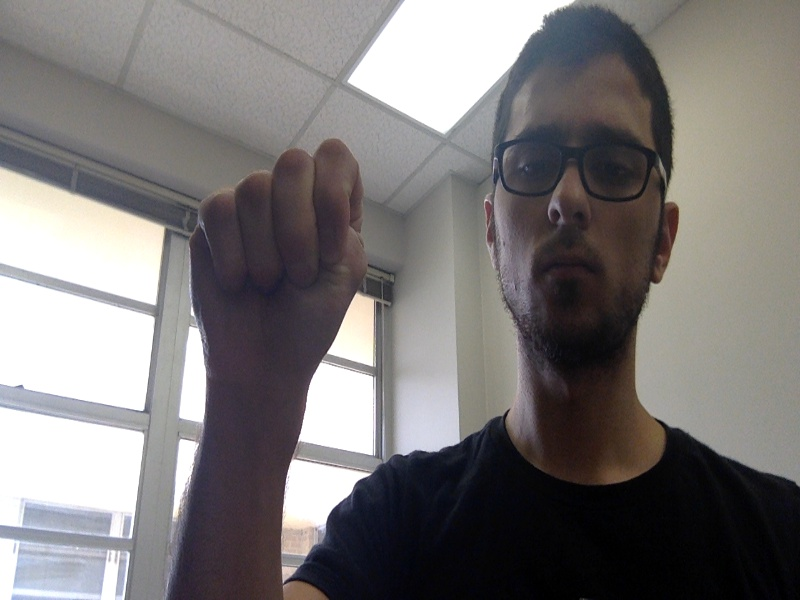0-hand: (190, 138, 361, 363)
